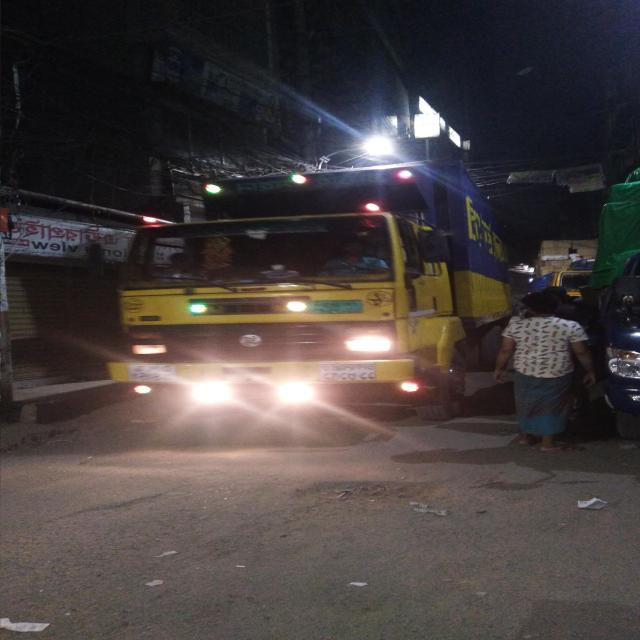truck: (88, 142, 522, 426)
